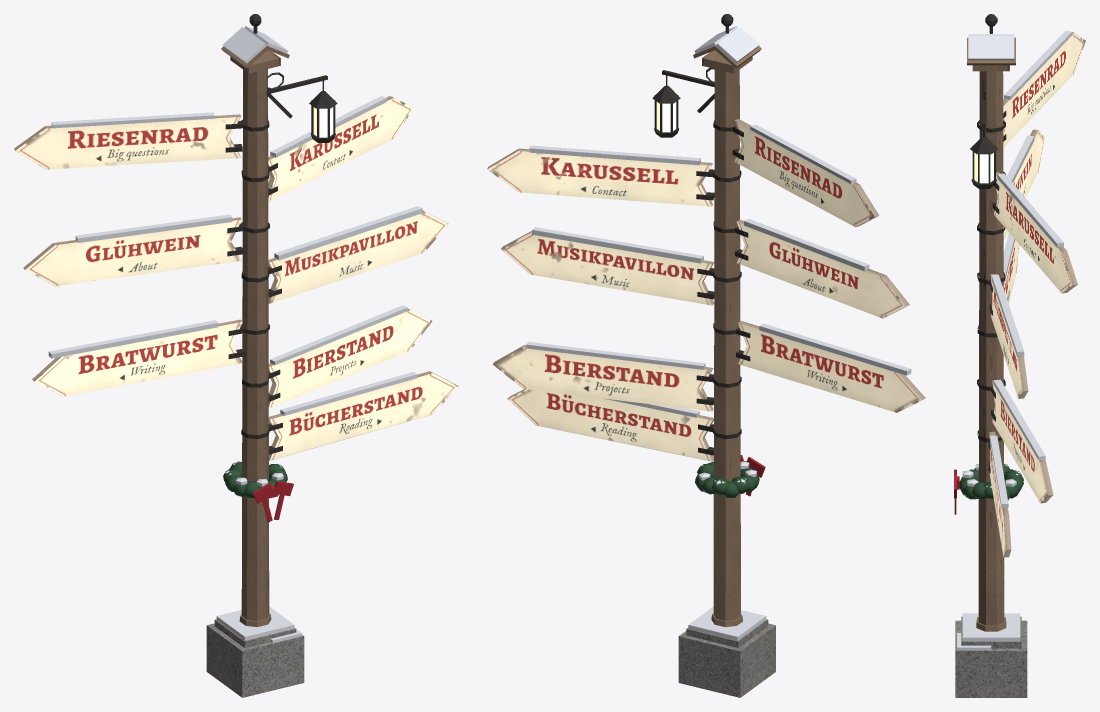
Rendered from signpost.glb.
3 views of the same model, side by side, from view 1: azimuth 30°, elevation 25°; view 2: azimuth 150°, elevation 25°; view 3: azimuth 270°, elevation 25° (orthographic).
Visible parts, largest first — view 1: sign_post, snow_sign, act_sign_riesenrad, act_sign_gluehwein, act_sign_bratwurst, act_sign_buecherstand, act_sign_bandstand, act_sign_bierstand, sign_plinth, act_sign_karussell, sign_ironwork, sign_wreath (+1 smaller); view 2: sign_post, snow_sign, act_sign_karussell, act_sign_bierstand, act_sign_bandstand, act_sign_buecherstand, act_sign_bratwurst, act_sign_gluehwein, sign_plinth, act_sign_riesenrad, sign_ironwork, sign_wreath; view 3: sign_post, snow_sign, sign_plinth, act_sign_riesenrad, act_sign_karussell, act_sign_bierstand, act_sign_bandstand, sign_ironwork, sign_wreath, act_sign_gluehwein, act_sign_buecherstand, sign_lantern_glass (+1 smaller).
Part boxes in pixels (bbox=[...]): sign_post: bbox=[221, 46, 289, 626]; snow_sign: bbox=[48, 26, 422, 643]; act_sign_riesenrad: bbox=[14, 114, 240, 169]; act_sign_gluehwein: bbox=[23, 217, 241, 286]; act_sign_bratwurst: bbox=[32, 319, 242, 396]; act_sign_buecherstand: bbox=[268, 371, 458, 460]; act_sign_bandstand: bbox=[268, 210, 448, 303]; act_sign_bierstand: bbox=[268, 309, 432, 408]; sign_plinth: bbox=[206, 619, 304, 697]; act_sign_karussell: bbox=[268, 96, 413, 201]; sign_ironwork: bbox=[249, 14, 337, 142]; sign_wreath: bbox=[223, 461, 287, 498]; sign_post: bbox=[693, 46, 761, 627]; snow_sign: bbox=[526, 26, 911, 640]; act_sign_karussell: bbox=[487, 148, 712, 206]; act_sign_bierstand: bbox=[492, 345, 713, 411]; act_sign_bandstand: bbox=[501, 231, 714, 305]; act_sign_buecherstand: bbox=[507, 389, 713, 461]; act_sign_bratwurst: bbox=[738, 321, 925, 412]; act_sign_gluehwein: bbox=[736, 220, 909, 318]; sign_plinth: bbox=[678, 619, 775, 697]; act_sign_riesenrad: bbox=[734, 119, 878, 227]; sign_ironwork: bbox=[652, 14, 733, 137]; sign_wreath: bbox=[695, 461, 759, 497]; sign_post: bbox=[967, 37, 1015, 631]; snow_sign: bbox=[957, 30, 1072, 650]; sign_plinth: bbox=[955, 616, 1027, 697]; act_sign_riesenrad: bbox=[1003, 32, 1085, 147]; act_sign_karussell: bbox=[994, 172, 1077, 293]; act_sign_bierstand: bbox=[992, 379, 1053, 503]; act_sign_bandstand: bbox=[990, 274, 1028, 398]; sign_ironwork: bbox=[970, 14, 998, 188]; sign_wreath: bbox=[959, 464, 1023, 500]; act_sign_gluehwein: bbox=[1003, 129, 1044, 240]; act_sign_buecherstand: bbox=[989, 431, 1011, 557]; sign_lantern_glass: bbox=[974, 152, 993, 183].
Size of the model in its own units: 3.4 by 5.13 by 0.9173.
Materials: 9 (3 with a texture image).
